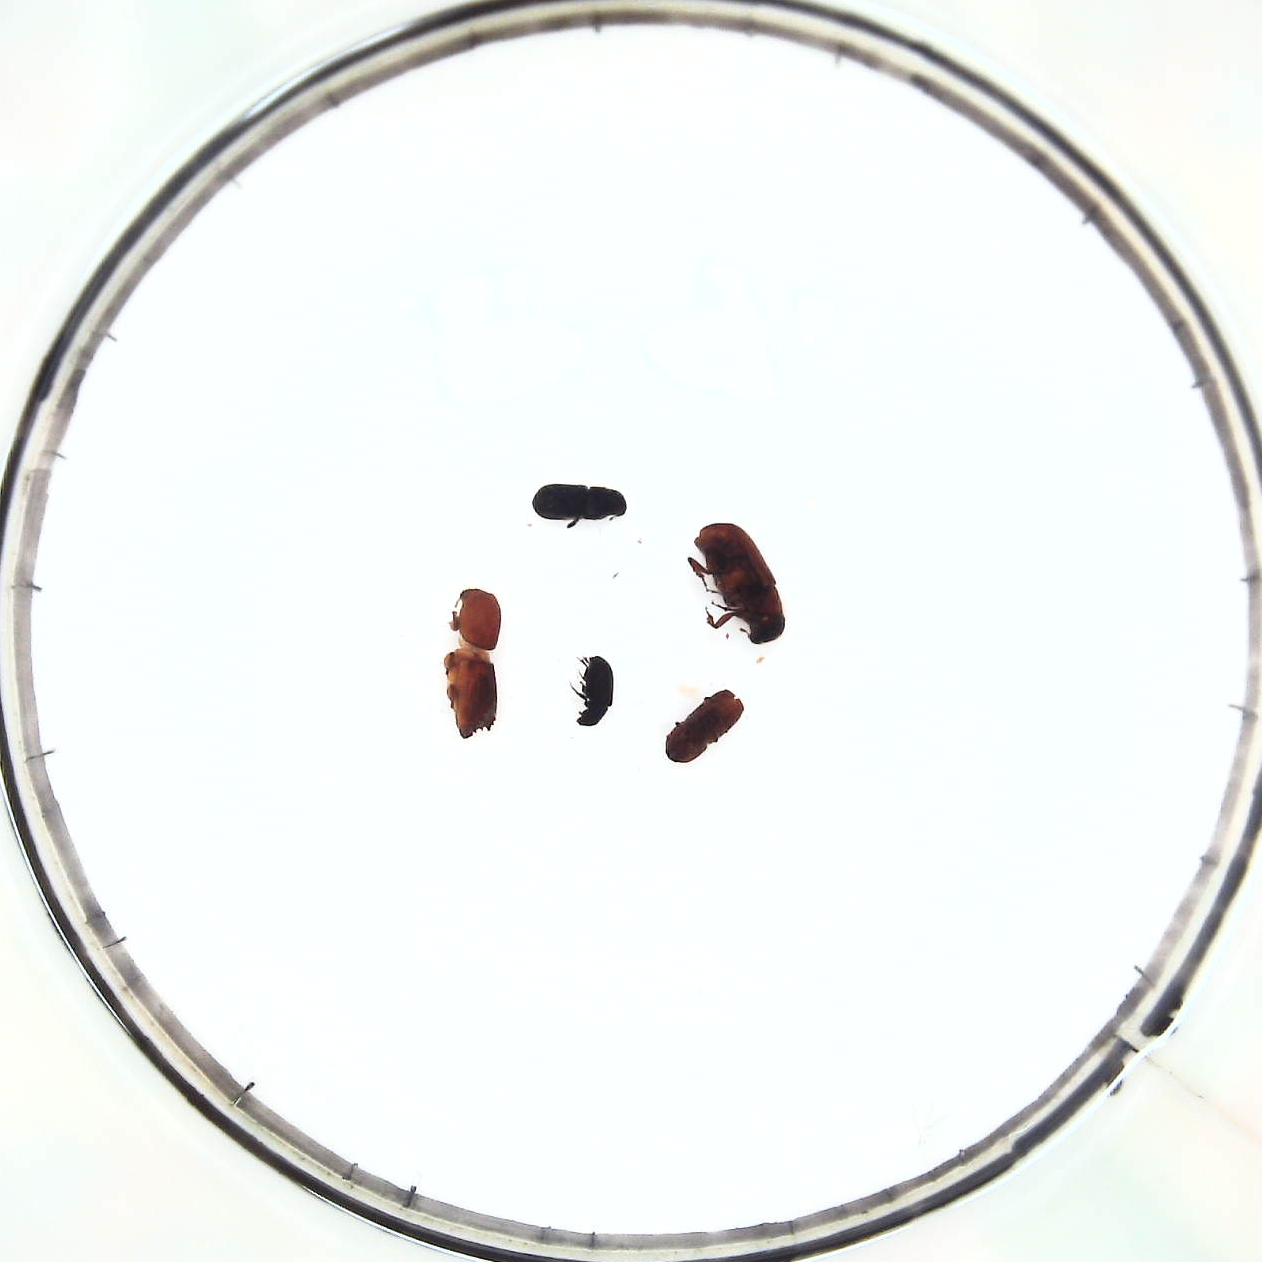Boerner: (444, 582, 503, 738)
Leconte: (691, 524, 792, 644)
Linnaeus: (665, 686, 744, 763)
armandi: (528, 477, 626, 529)
coleoptera: (577, 653, 617, 726)
